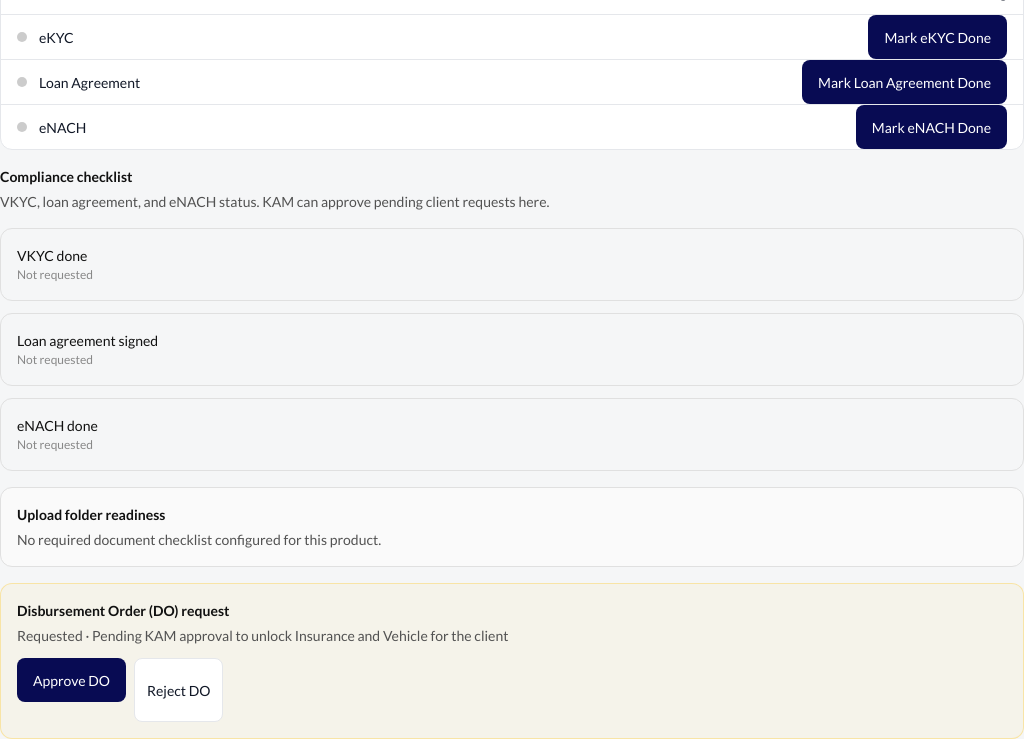
it: B2cEvComplianceReview › keeps Send DO disabled until every checklist item is ticked
(page scrolled)
Click the button with test id "do-request-approve" at [72, 680], box [17,658,126,702]
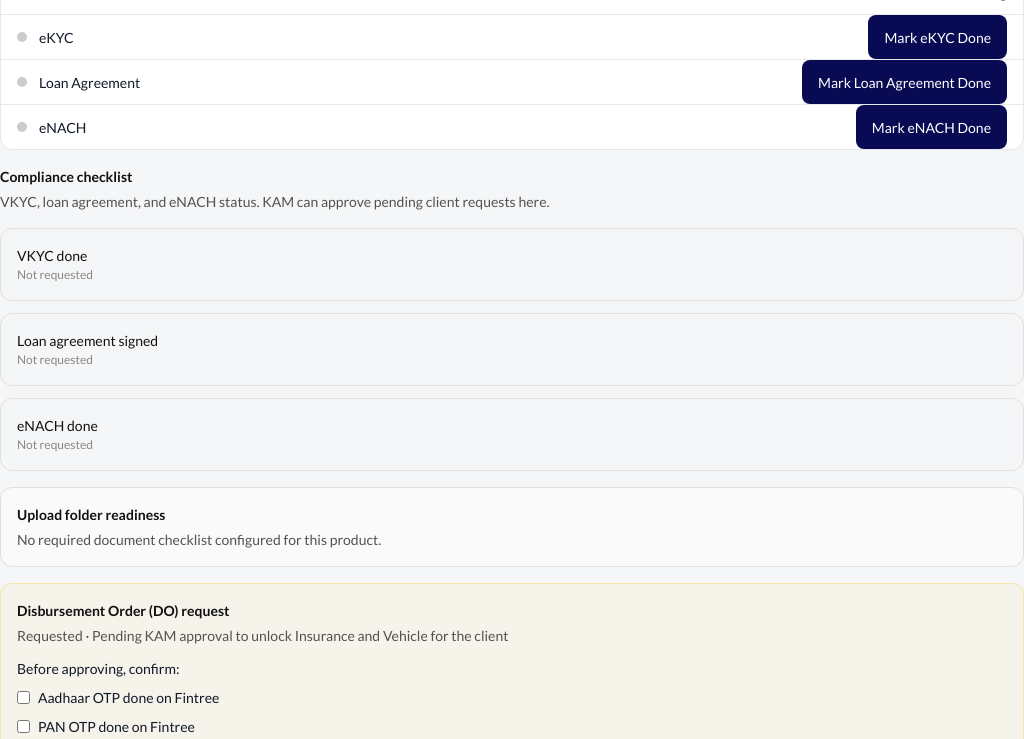
Click the checkbox with test id "do-approval-check-0" at [24, 698], box [17,691,30,704]
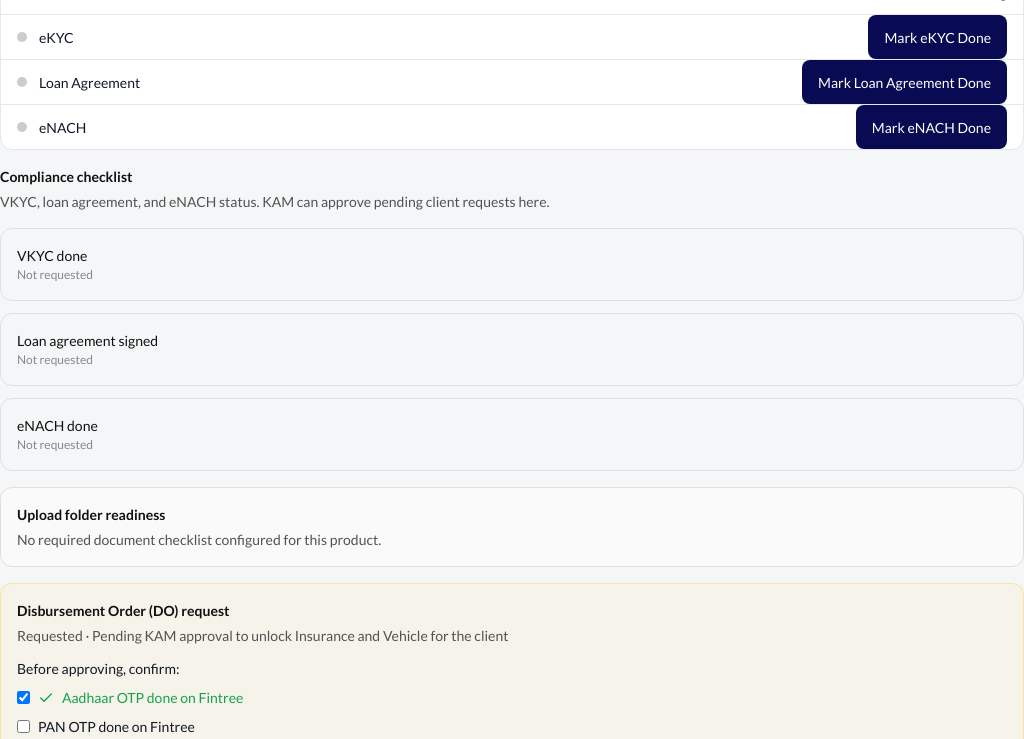
Click the checkbox with test id "do-approval-check-1" at [24, 726], box [17,720,30,733]
(page scrolled)
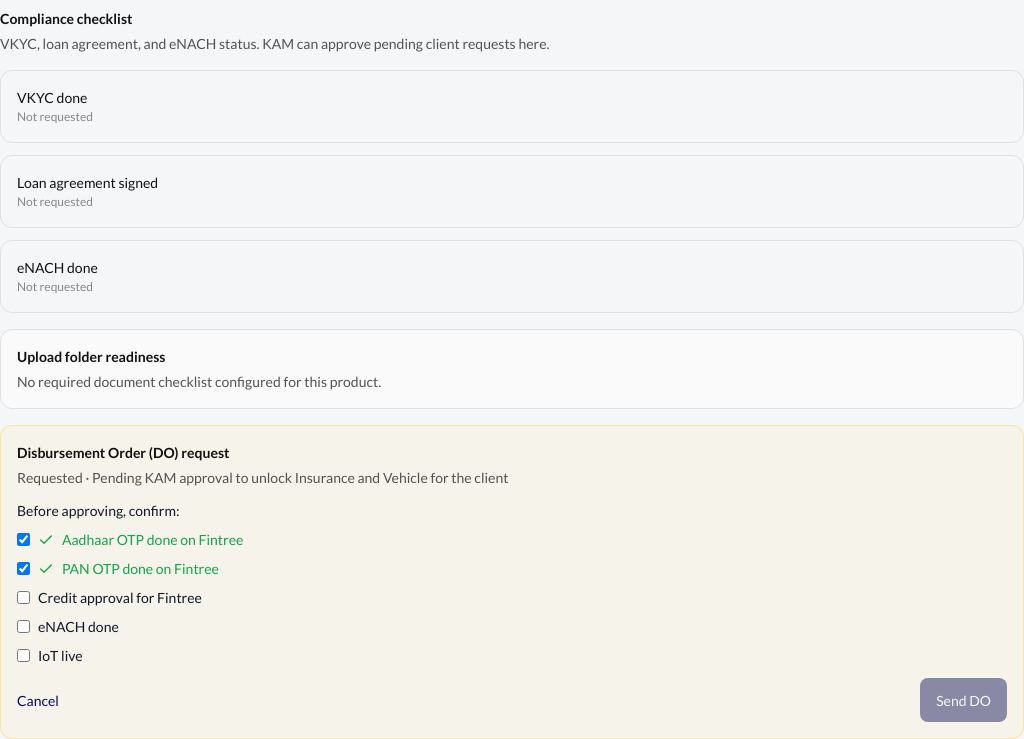
Click the checkbox with test id "do-approval-check-2" at [24, 598], box [17,591,30,604]
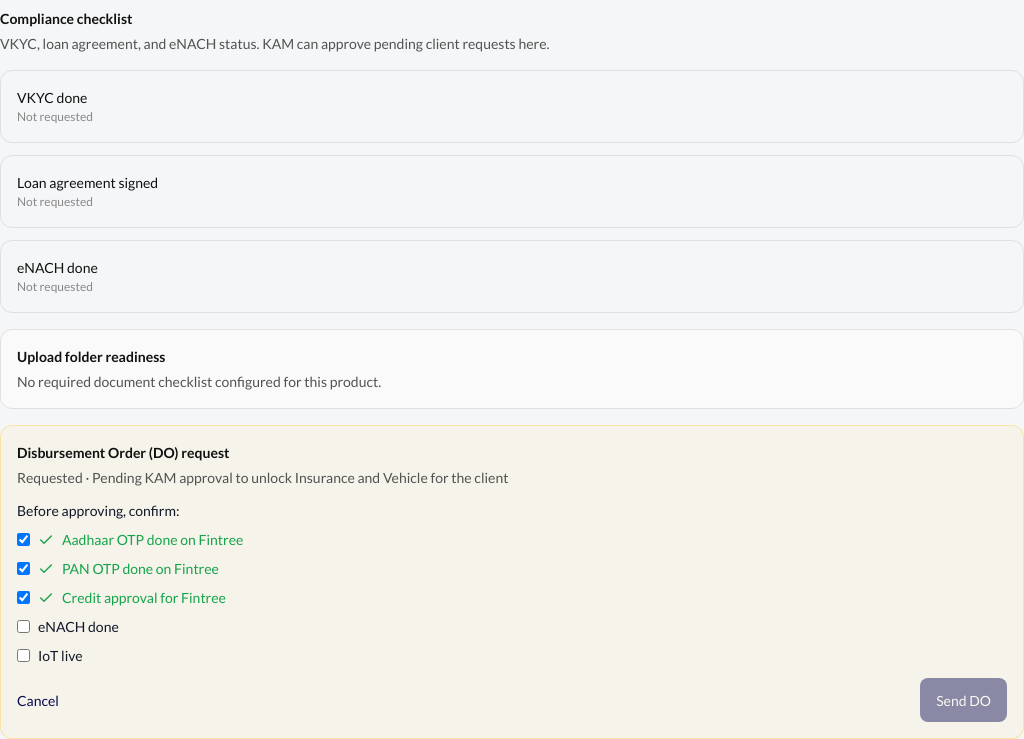
Click the checkbox with test id "do-approval-check-3" at [24, 626], box [17,620,30,633]
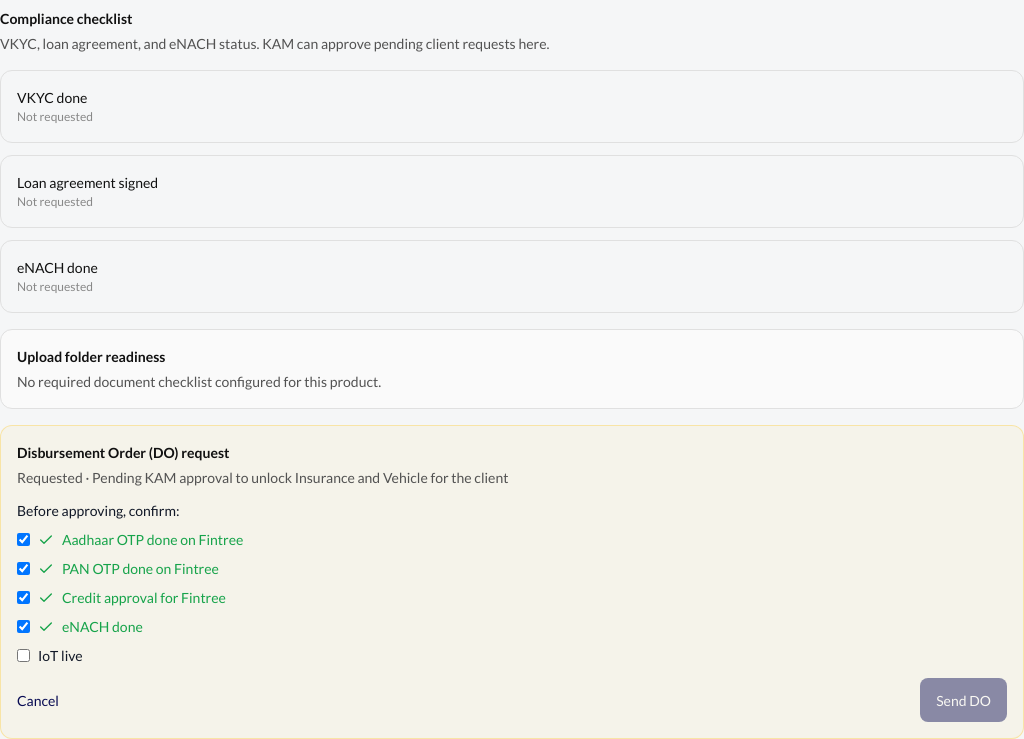
Check: the button with test id "do-approval-send" is disabled, box [920,678,1007,722]
Click the checkbox with test id "do-approval-check-4" at [24, 656], box [17,649,30,662]
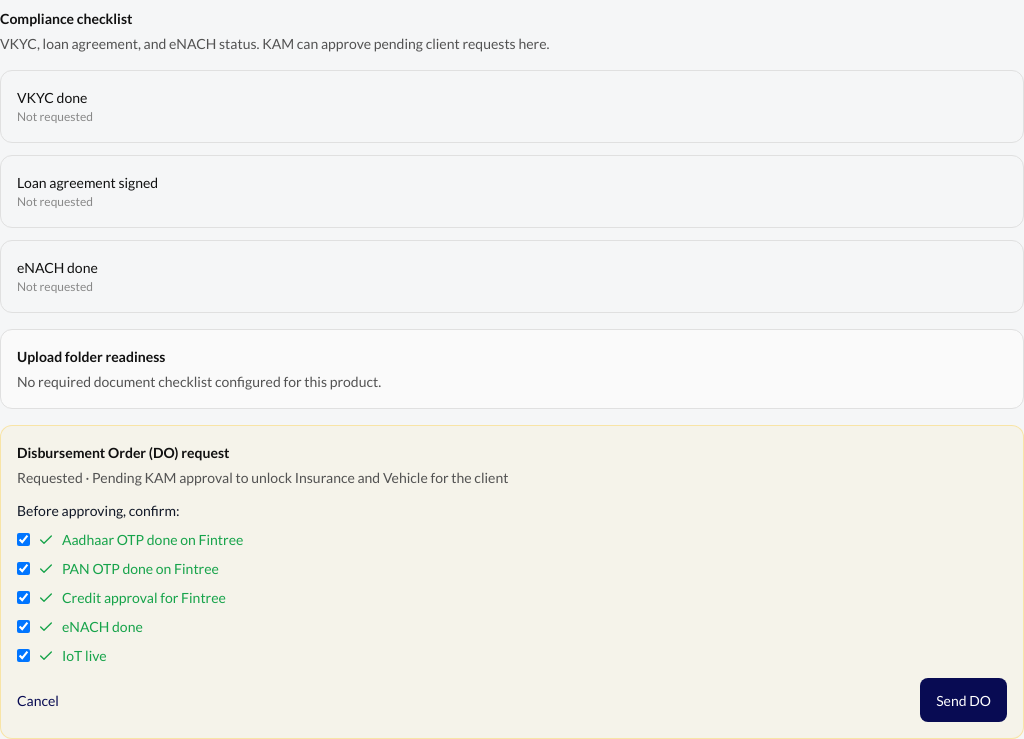
Check: the button with test id "do-approval-send" is enabled, box [920,678,1007,722]
